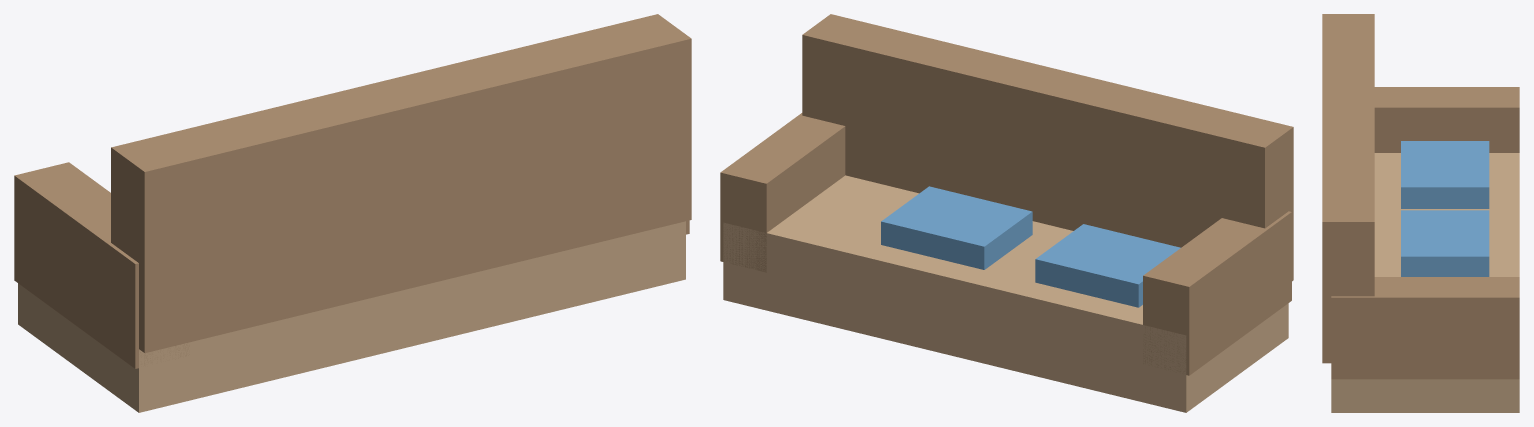
The model's file is lounge-sofa.glb.
3 views of the same model, side by side, from view 1: azimuth 30°, elevation 25°; view 2: azimuth 150°, elevation 25°; view 3: azimuth 270°, elevation 25° (orthographic). The views are drawn at different scales.
Parts seen in each view (by area): view 1: world; view 2: world; view 3: world.
Boxes of the visible parts, x1,y1,x2,y2 form: world: (14, 14, 691, 412); world: (720, 14, 1293, 412); world: (1322, 14, 1519, 412).
Size of the model in its own units: 3.04 by 1.28 by 1.2.
